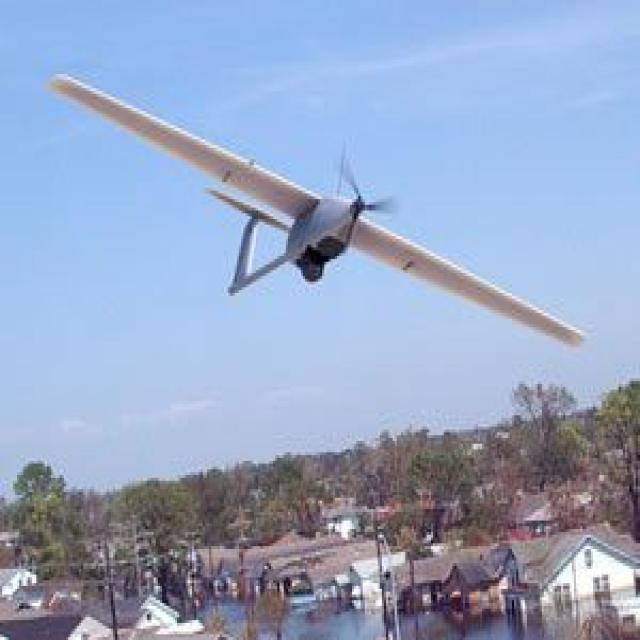iha: (44, 69, 586, 350)
